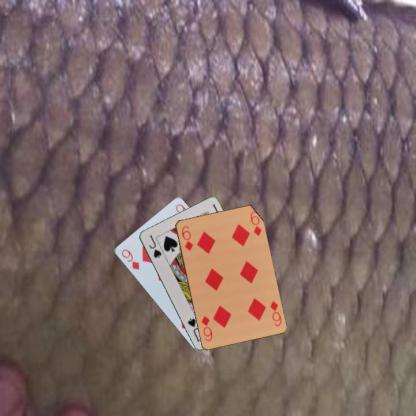6d: (267, 298, 282, 328), (179, 223, 194, 252)
9d: (118, 246, 140, 271)
Js: (146, 232, 162, 260)
